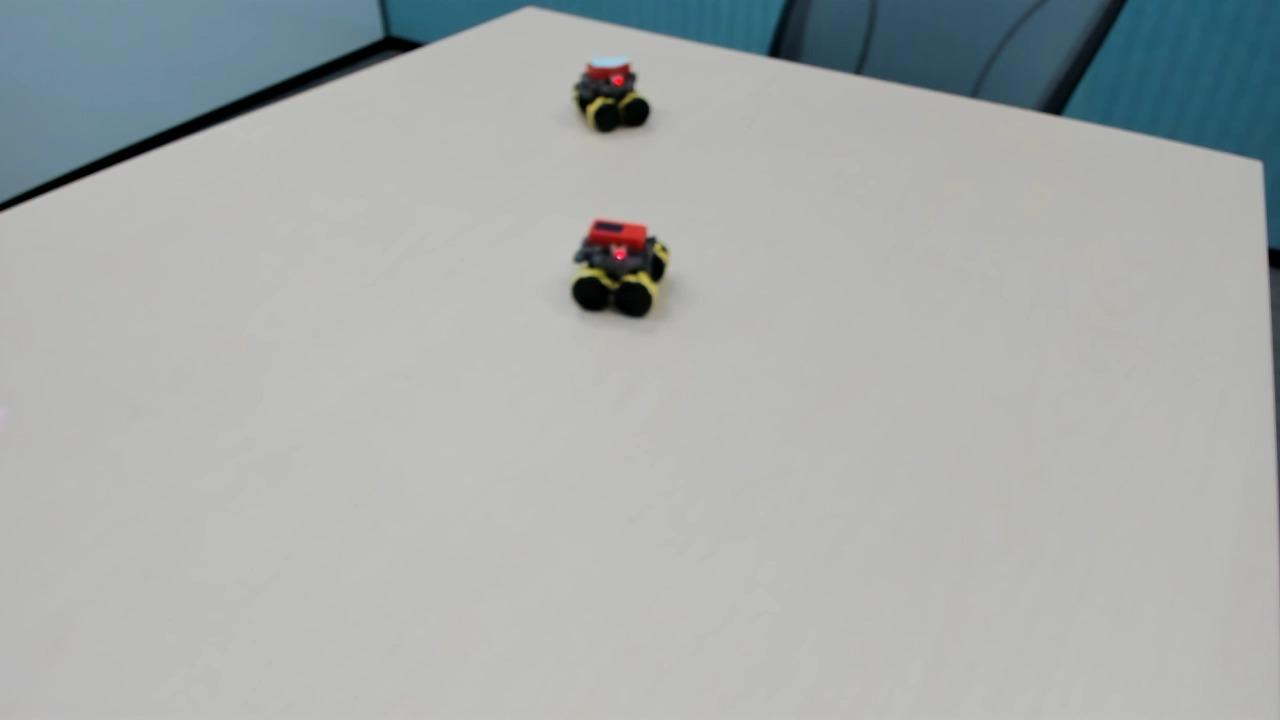B-Robot: (564, 44, 661, 143)
R-Robot: (566, 213, 676, 329)
